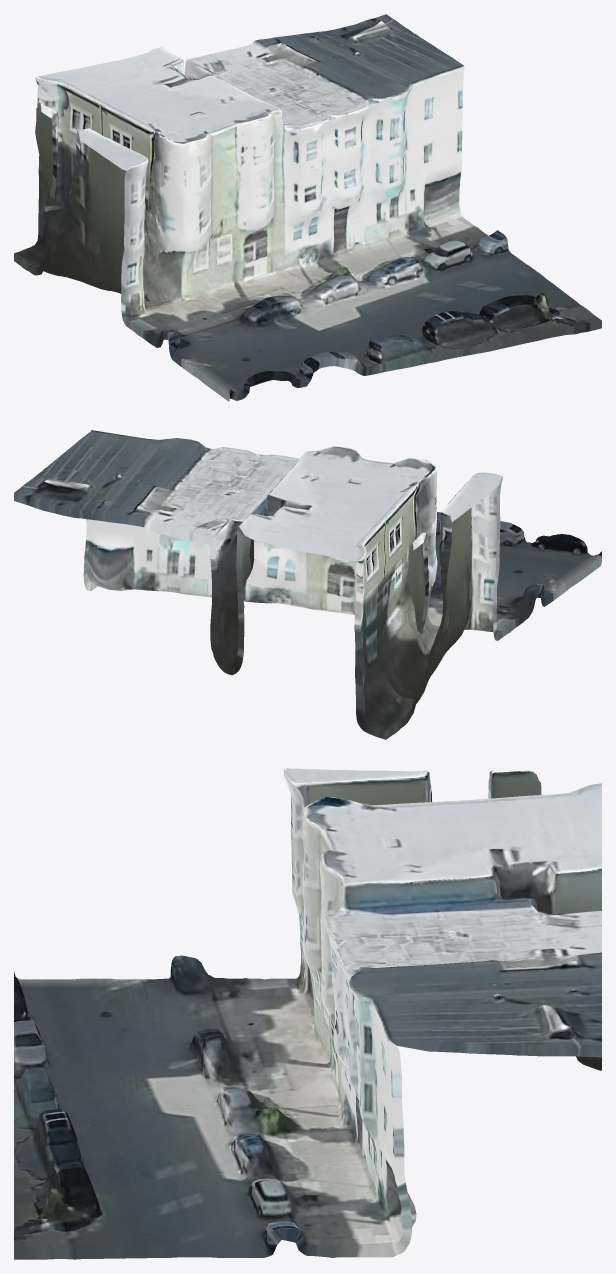
The model's file is z20-167733-405191-h0-yup-uvflip-v3-world.glb.
The picture shows the model from 3 angles, top to bottom: view 1: azimuth 30°, elevation 25°; view 2: azimuth 150°, elevation 25°; view 3: azimuth 270°, elevation 25°; orthographic projection. The views are drawn at different scales.
Size of the model in its own units: 30.16 by 14.28 by 30.32.
Materials: 1 (1 with a texture image).
